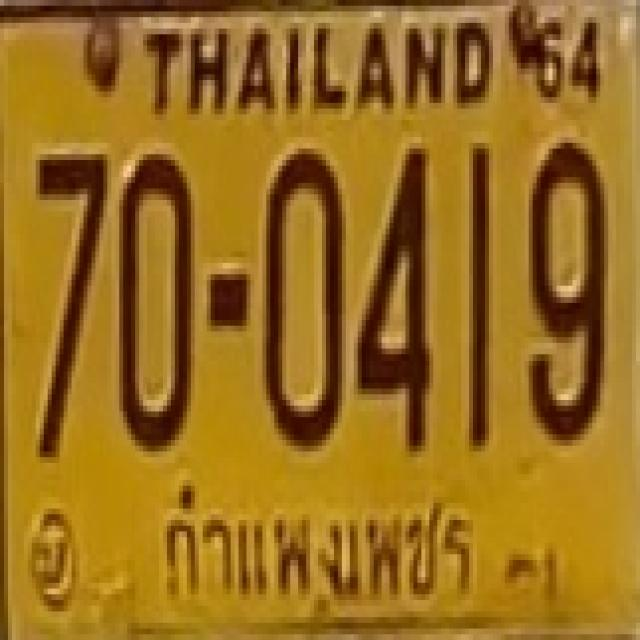0: (262, 148, 342, 446), (117, 148, 193, 446)
4: (352, 143, 427, 446)
7: (34, 148, 105, 452)
9: (525, 140, 604, 437)
KPT: (147, 474, 483, 606)
